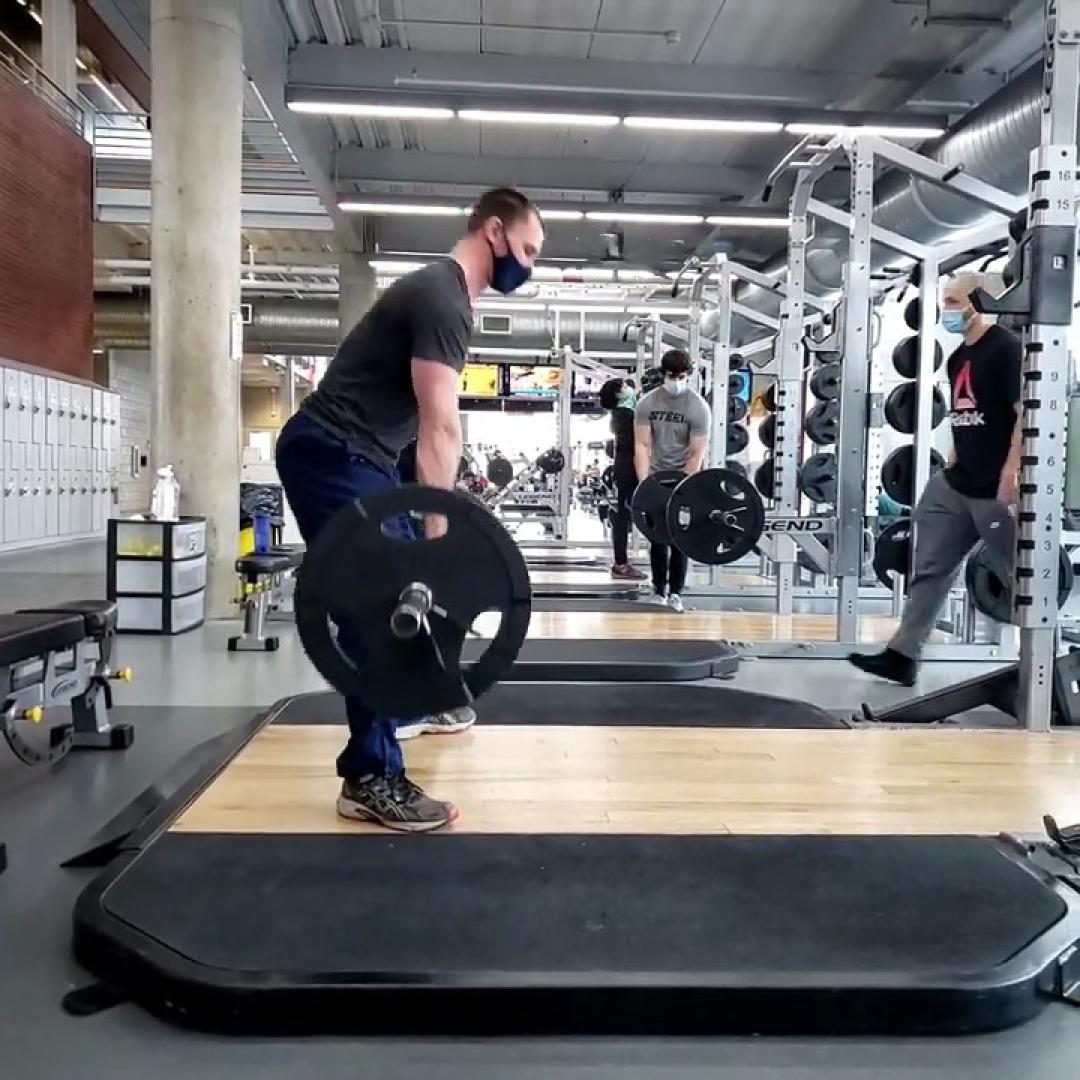Bar: (389, 604, 423, 640)
Barbell: (294, 486, 531, 720)
